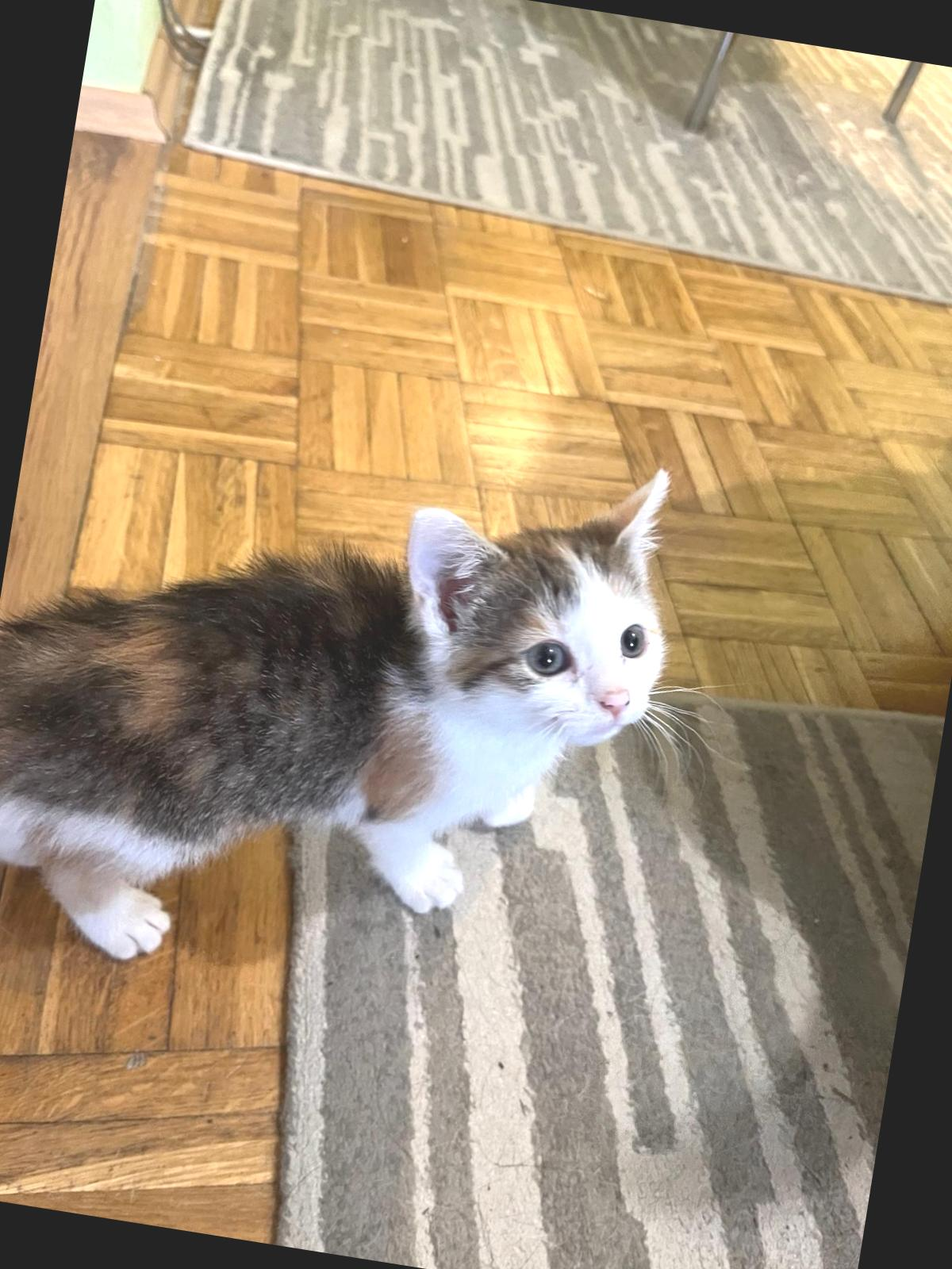macka: (0, 366, 697, 1036)
